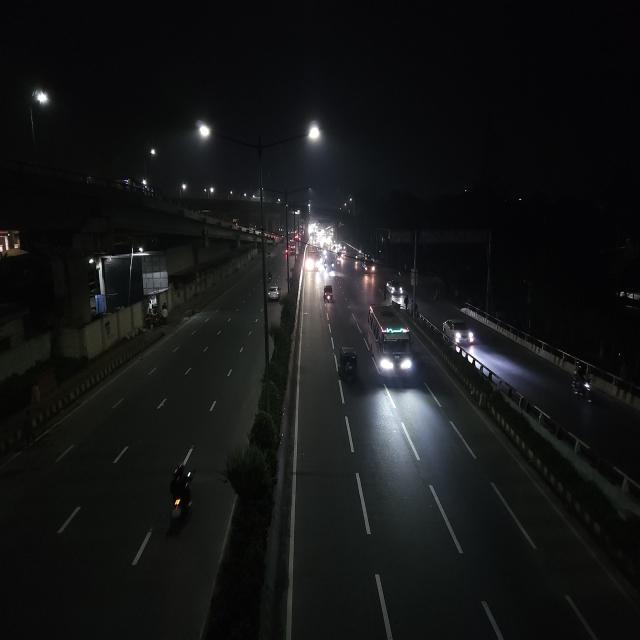bus: (364, 301, 418, 389), (304, 243, 322, 275)
car: (441, 315, 477, 349), (384, 280, 404, 302), (267, 282, 281, 302)
cng: (334, 344, 360, 386), (322, 282, 336, 306)
motorcycle: (165, 460, 197, 534), (568, 364, 596, 407), (331, 259, 335, 271), (324, 260, 327, 271)
pickup_van: (362, 257, 377, 275)
